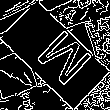M_SW: (21, 21, 89, 89)
